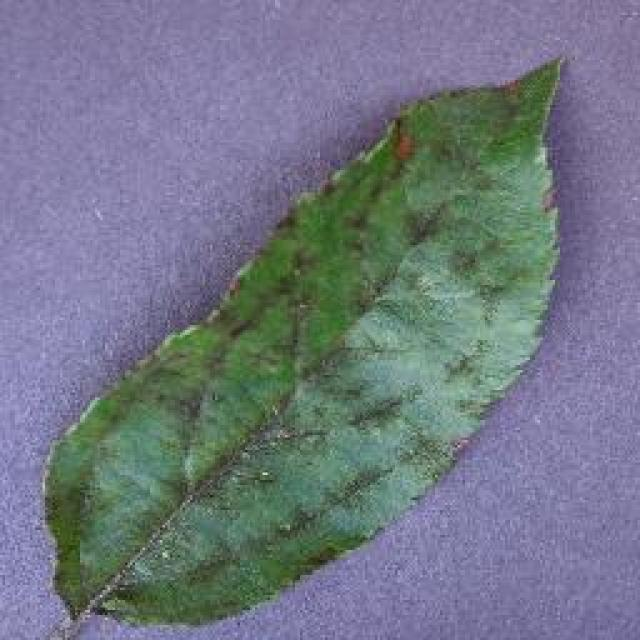apple scab disease: (37, 52, 565, 630)
